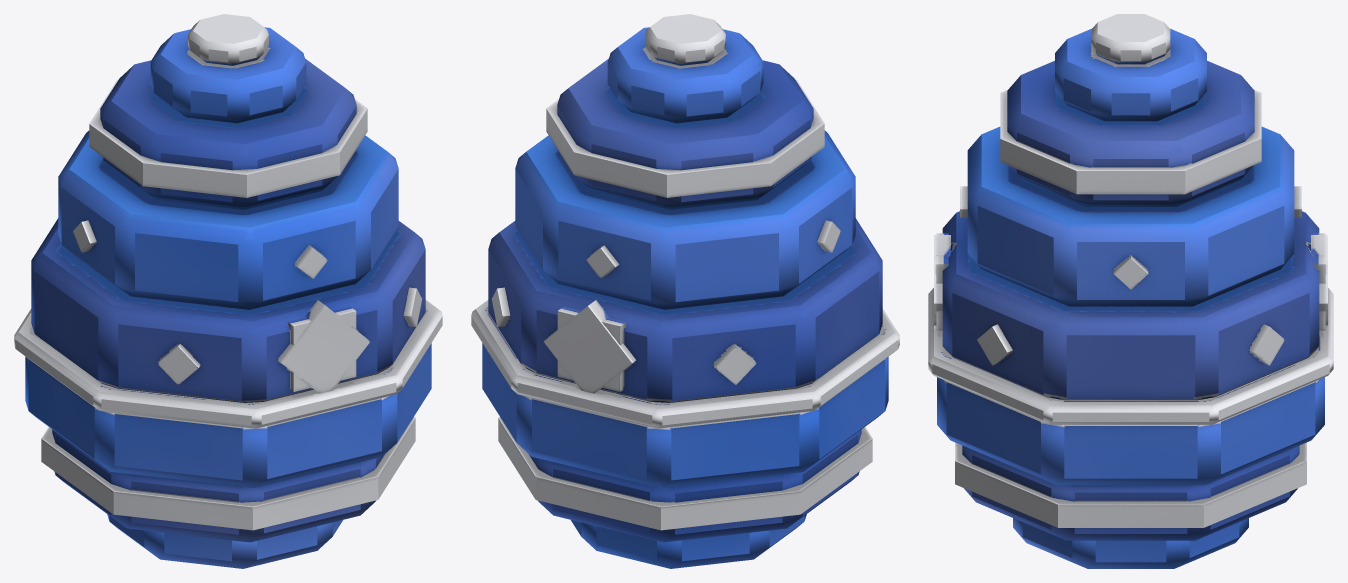
File: OeufRare_Rig.fbx
3 views of the same model, side by side, from view 1: azimuth 30°, elevation 25°; view 2: azimuth 150°, elevation 25°; view 3: azimuth 270°, elevation 25° (orthographic).
Visible parts, largest first — view 1: Middle, Top, Upper, Lower, Bottom; view 2: Middle, Top, Upper, Lower, Bottom; view 3: Middle, Top, Upper, Lower, Bottom.
Boxes of the visible parts, x1,y1,x2,y2 form: Middle: [31, 218, 425, 402]; Top: [89, 14, 367, 209]; Upper: [58, 130, 398, 309]; Lower: [14, 300, 442, 487]; Bottom: [41, 417, 415, 568]; Middle: [488, 218, 882, 402]; Top: [546, 14, 824, 209]; Upper: [515, 130, 855, 309]; Lower: [471, 300, 899, 487]; Bottom: [498, 417, 872, 568]; Middle: [934, 211, 1327, 400]; Top: [1000, 14, 1261, 206]; Upper: [960, 126, 1301, 306]; Lower: [928, 288, 1333, 485]; Bottom: [955, 442, 1306, 568].
Bounding box in the file's own units: 4.43 × 6 × 4.43.
Materials: 1 (1 with a texture image).
